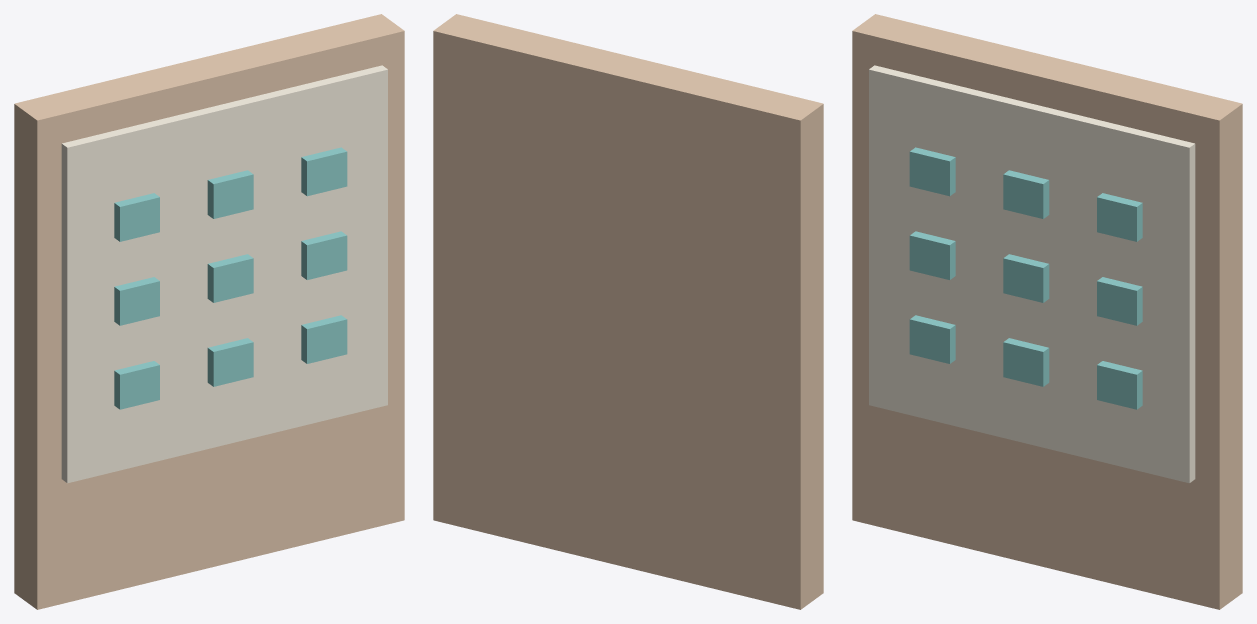
Rendered from calendar.glb.
The picture shows the model from 3 angles, left to right: view 1: azimuth 30°, elevation 25°; view 2: azimuth 150°, elevation 25°; view 3: azimuth 330°, elevation 25°; orthographic projection.
Visible parts, largest first — view 1: paper, stand, date1, date4, date7, date8, date2, date5, date3, date0, date6; view 2: stand; view 3: paper, stand, date1, date4, date6, date7, date0, date3, date5, date2, date8.
Part boxes in pixels (x1,y1,x2,y2): paper: (61,65,387,483); stand: (14,14,404,609); date1: (207,338,253,386); date4: (207,254,253,302); date7: (207,170,253,218); date8: (301,147,347,196); date2: (301,315,347,363); date5: (301,231,347,279); date3: (114,277,159,325); date0: (114,361,159,409); date6: (114,193,159,241); stand: (433,14,823,609); paper: (869,65,1195,483); stand: (852,14,1242,609); date1: (1003,338,1049,386); date4: (1003,254,1049,302); date6: (909,147,955,196); date7: (1003,170,1049,218); date0: (909,315,955,363); date3: (909,231,955,279); date5: (1097,277,1142,325); date2: (1097,361,1142,409); date8: (1097,193,1142,241).
Bounding box in the file's own units: 0.55 × 0.7 × 0.0925.
